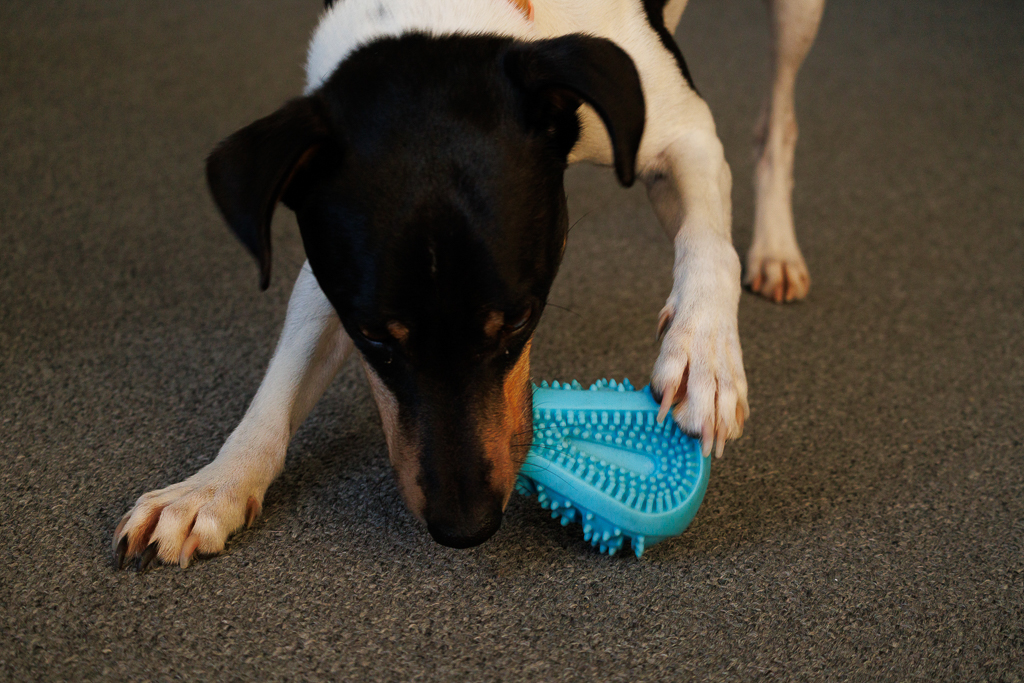Dog: (99, 0, 831, 588)
